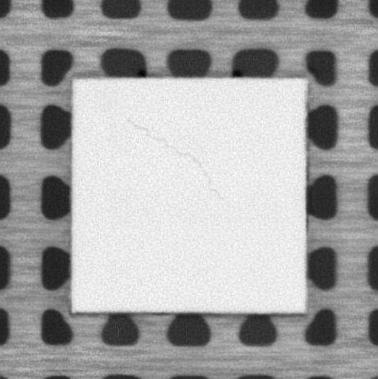DIE_CRACK: (126, 117, 225, 201)
